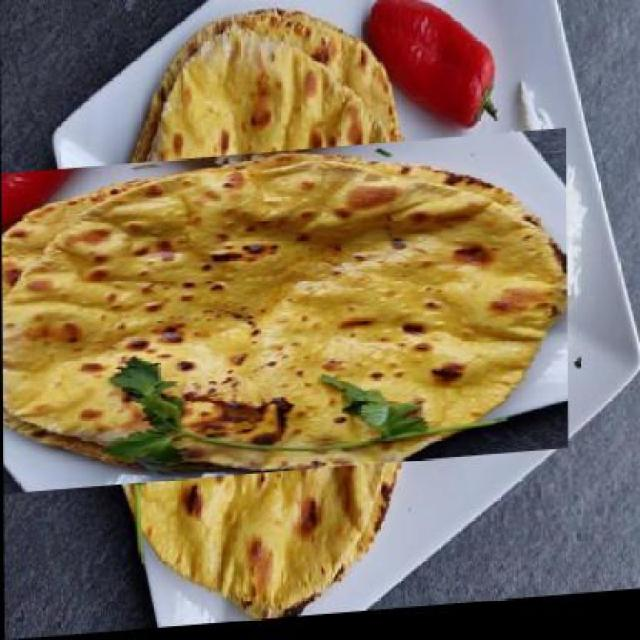chapati: (31, 70, 498, 565)
